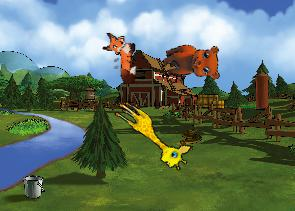bear: (159, 38, 224, 90)
fox: (102, 32, 137, 84)
giraffe: (105, 97, 196, 174)
